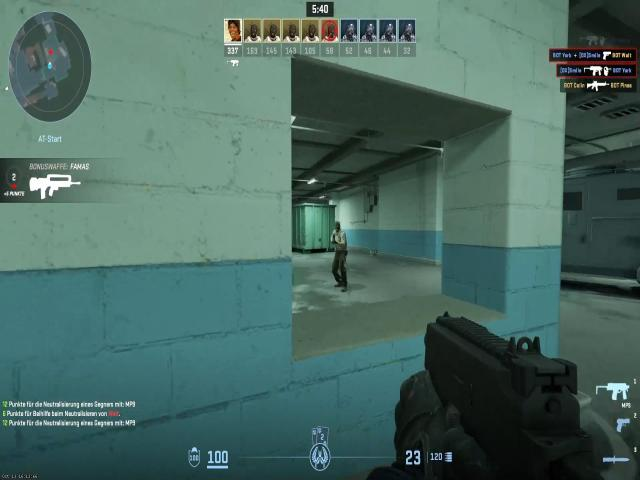T: (330, 220, 349, 256)
T-Head: (333, 221, 342, 238)
